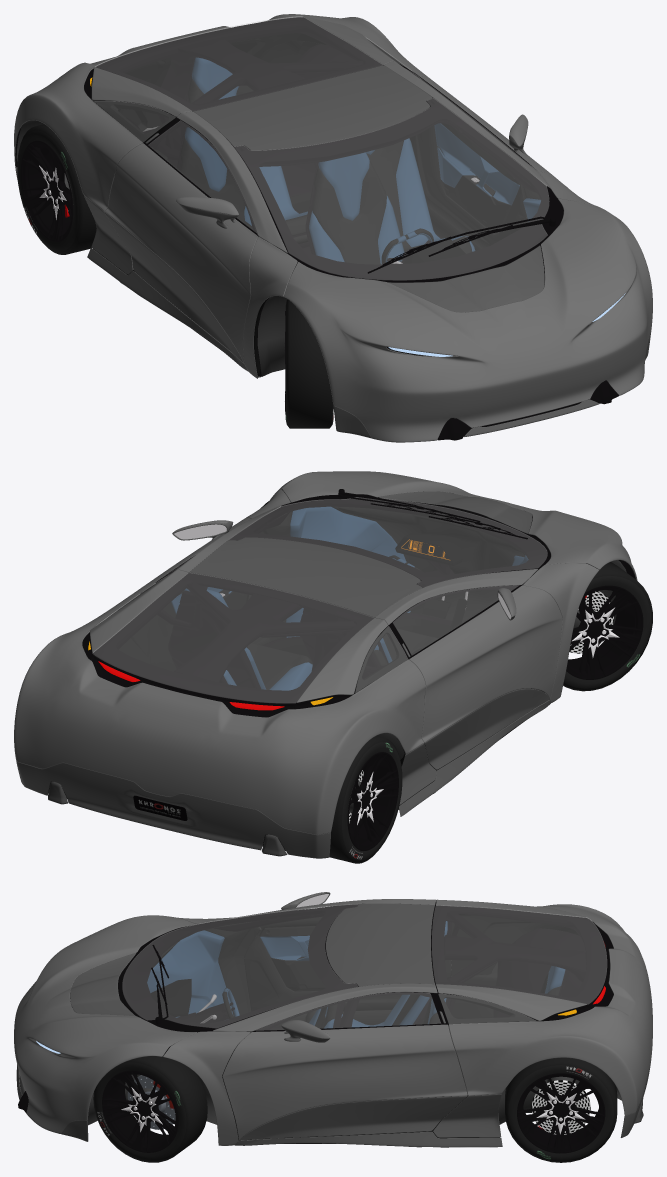
File: car-material-study.glb
3 views of the same model, one above another, from view 1: azimuth 30°, elevation 25°; view 2: azimuth 150°, elevation 25°; view 3: azimuth 270°, elevation 25° (orthographic). The views are drawn at different scales.
Parts seen in each view (by area): view 1: BodyHood, BodyWindshield, BodyRearwindow, BodyDoorRColor1, BodyRearPanelsColor1, BodyRoofPanel, BodyWindshieldGasket, InteriorSeatsColor1, InteriorSeatsColor2, BodyPillars, InteriorPillar, InteriorRearHatch (+21 smaller); view 2: BodyRearPanelsColor1, BodyRearwindow, BodyWindshield, BodyDoorRColor1, BodyPanelsColor2, BodyRoofPanel, BodyHood, InteriorRearHatch, BodyPillars, InteriorPillar, BodyWindshieldGasket, InteriorDashMid (+22 smaller); view 3: BodyRearPanelsColor1, BodyWindshield, BodyDoorLColor1, BodyHood, BodyRearwindow, BodyRoofPanel, BodyPillars, BodyWindshieldGasket, BodyDoorLColor2, BodyPanelsColor2, Part 84, InteriorRearHatch (+25 smaller).
Part boxes in pixels (x1,y1,x2,y2): BodyHood: (283,198,652,442); BodyWindshield: (234,98,549,280); BodyRearwindow: (95,16,382,110); BodyDoorRColor1: (104,143,257,362); BodyRearPanelsColor1: (14,14,428,210); BodyRoofPanel: (193,65,432,150); BodyWindshieldGasket: (234,99,563,282); InteriorSeatsColor1: (185,57,475,264); InteriorSeatsColor2: (180,78,472,264); BodyPillars: (176,61,598,378); InteriorPillar: (158,37,434,168); InteriorRearHatch: (93,17,383,117); BodyRearPanelsColor1: (14,569,425,834); BodyRearwindow: (92,573,373,703); BodyWindshield: (229,497,547,587); BodyDoorRColor1: (409,585,562,742); BodyPanelsColor2: (16,700,550,858); BodyRoofPanel: (189,537,422,617); BodyHood: (279,471,637,580); InteriorRearHatch: (93,573,386,707); BodyPillars: (175,489,599,702); InteriorPillar: (174,574,417,682); BodyWindshieldGasket: (230,497,550,587); InteriorDashMid: (331,503,528,622); BodyRearPanelsColor1: (436,899,652,1115); BodyWindshield: (122,904,357,1028); BodyDoorLColor1: (222,1024,467,1139); BodyHood: (14,915,196,1133); BodyRearwindow: (432,905,606,1003); BodyRoofPanel: (326,903,434,986); BodyPillars: (163,899,437,1145); BodyWindshieldGasket: (118,905,357,1032); BodyDoorLColor2: (240,1096,467,1140); BodyPanelsColor2: (16,1050,652,1147); Part 84: (93,1054,207,1162); InteriorRearHatch: (431,905,606,1020).
Size of the model in its own units: 1.75 by 0.791 by 3.
Materials: 26 (6 with a texture image).
